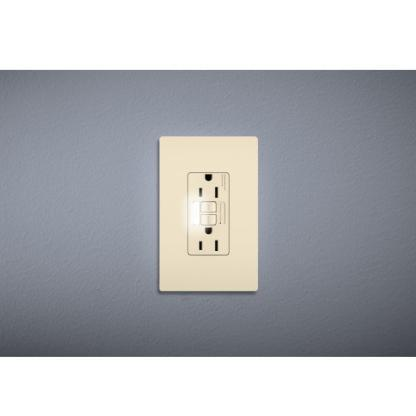OUTLET: (157, 136, 258, 293)
